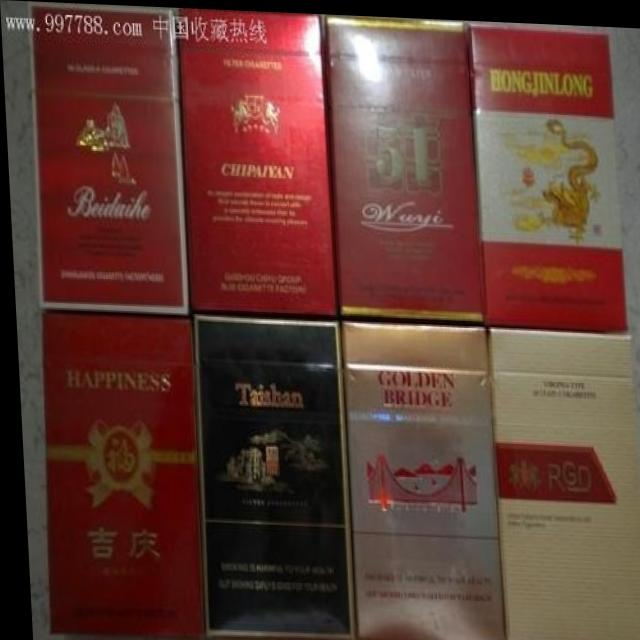box: (36, 310, 199, 639), (336, 317, 499, 640), (190, 311, 349, 639), (464, 20, 627, 329), (27, 1, 185, 316), (321, 11, 481, 319), (485, 323, 640, 640), (178, 6, 334, 316)
